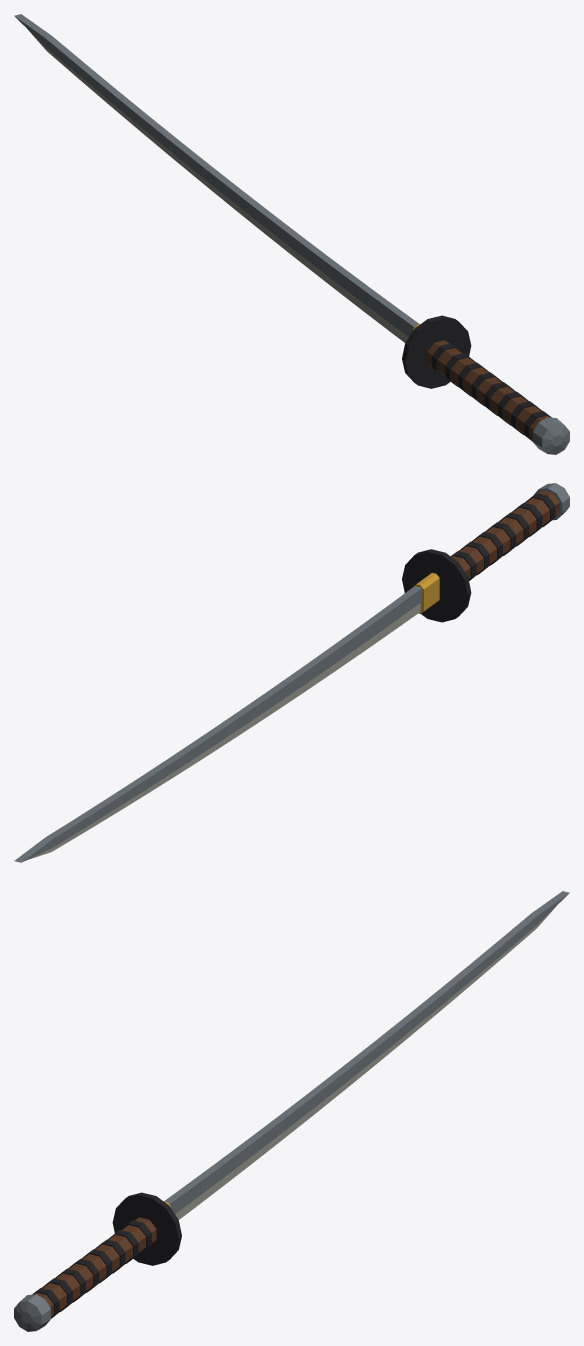
Rendered from katana.glb.
3 views of the same model, one above another, from view 1: azimuth 30°, elevation 25°; view 2: azimuth 150°, elevation 25°; view 3: azimuth 330°, elevation 25° (orthographic).
Parts seen in each view (by area): view 1: katana; view 2: katana; view 3: katana.
Part boxes in pixels (left/top/right/bottom): katana: left=14, top=14, right=569, bottom=454; katana: left=14, top=483, right=569, bottom=862; katana: left=14, top=891, right=569, bottom=1331.
Bounding box in the file's own units: 0.072 × 0.0702 × 1.02.
2 materials, 2 textured.
